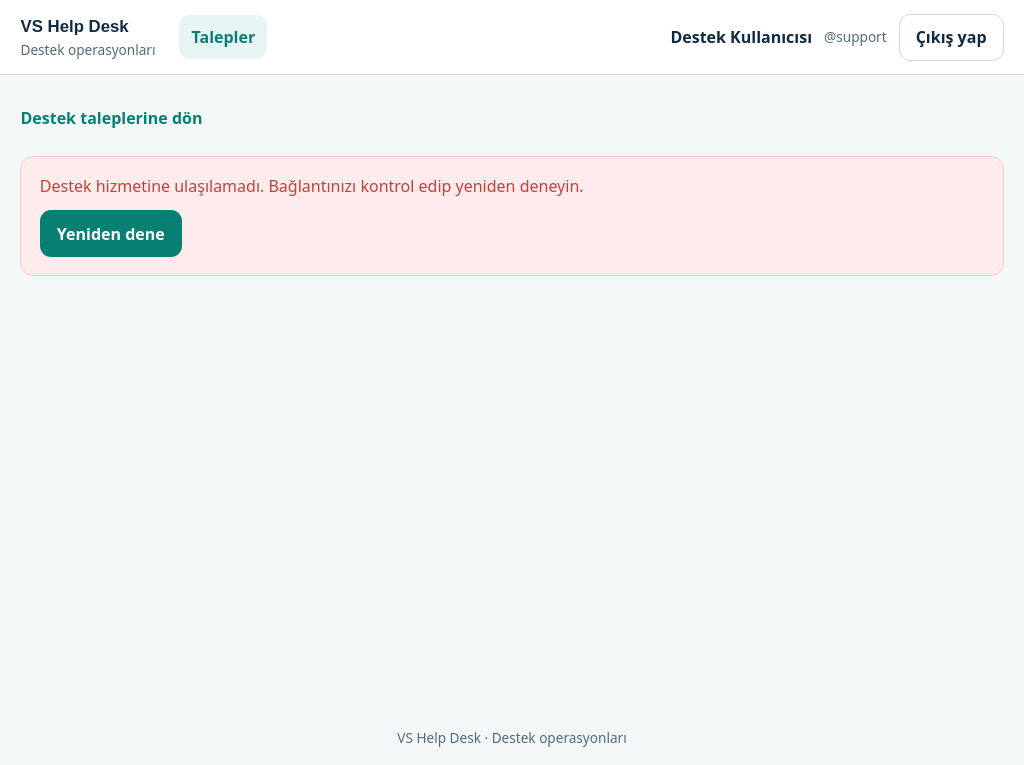
Scenario: TicketDetailPage › shows initial network error with retry
This screenshot has width=1024, height=765.
Expected: the message shows "Destek hizmetine ulaşılamadı. Bağlantınızı kontrol edip yeniden deneyin.", [40,175,584,197]
Click the button "Yeniden dene": (111, 234) [40,210,182,257]
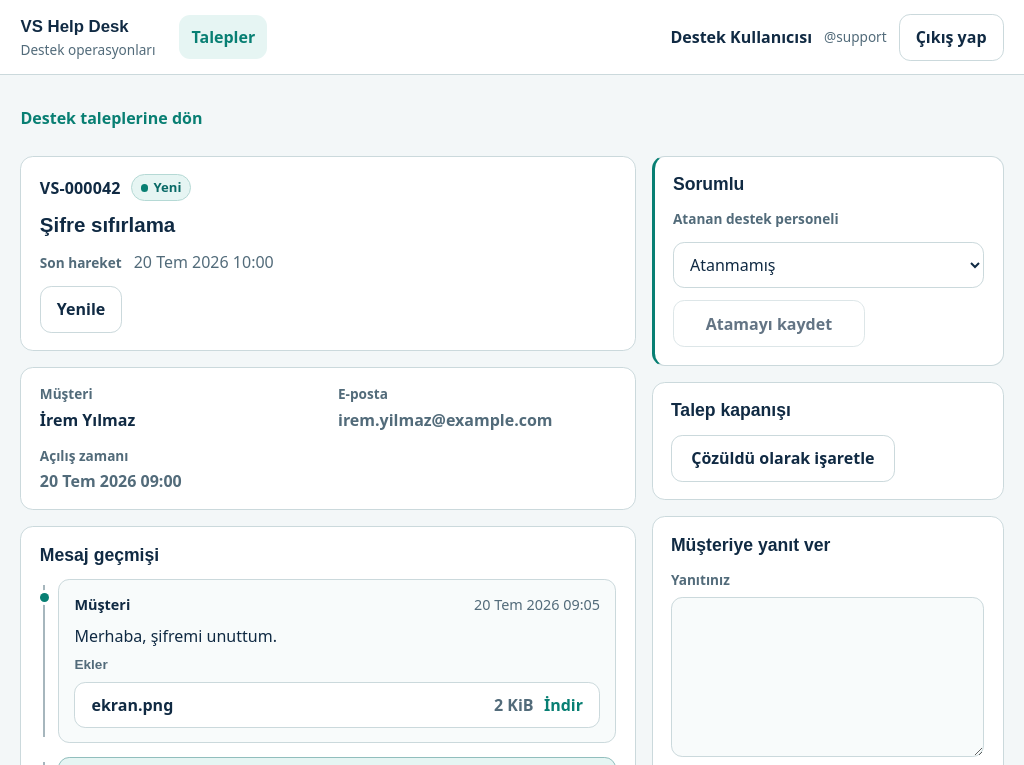
Now the heading "Mesaj geçmişi" is shown, box [40,545,159,565]
